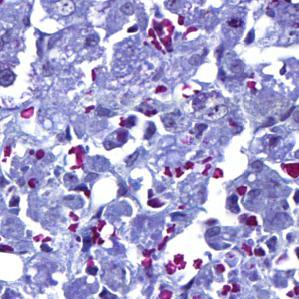inflammation: (140, 11, 180, 56), (58, 137, 94, 173)
